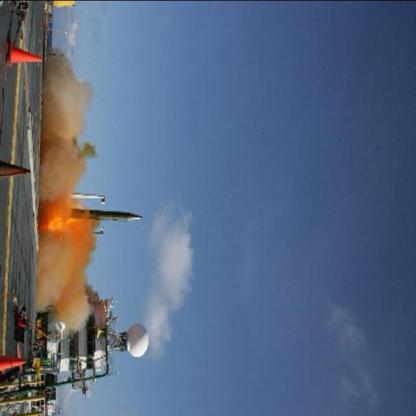MIL_TBM: (72, 206, 148, 224), (64, 192, 106, 200)
